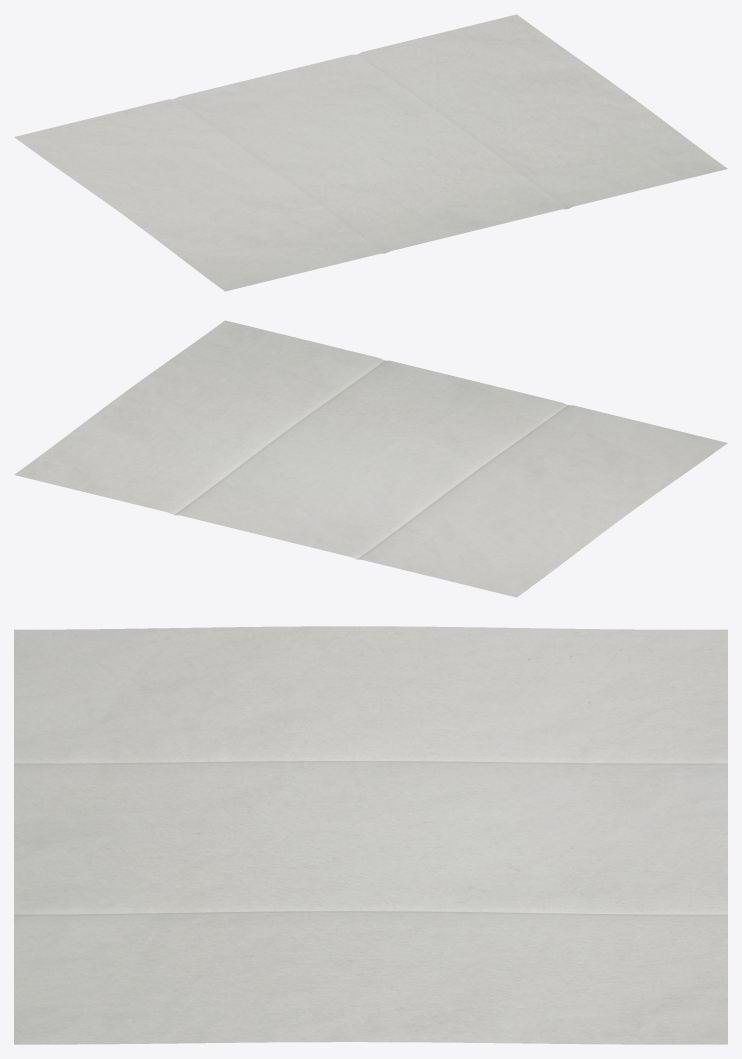
File: paper.obj
3 renders of one model, top to bottom at view 1: azimuth 30°, elevation 25°; view 2: azimuth 150°, elevation 25°; view 3: azimuth 270°, elevation 25°, orthographic. The views are drawn at different scales.
Visible parts, largest first — view 1: Object_2; view 2: Object_2; view 3: Object_2.
Part boxes in pixels (box(x1,y1,x2,y2)): Object_2: box(14, 14, 727, 291); Object_2: box(14, 320, 727, 597); Object_2: box(14, 626, 727, 1044).
Bounding box in the file's own units: 27.94 × 0.2143 × 20.32.
Materials: 1 (1 with a texture image).
